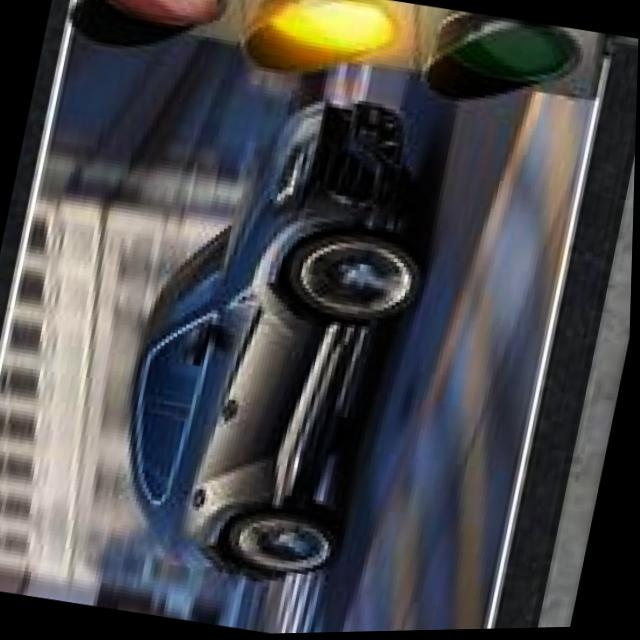yellow_light: (220, 0, 445, 136)
